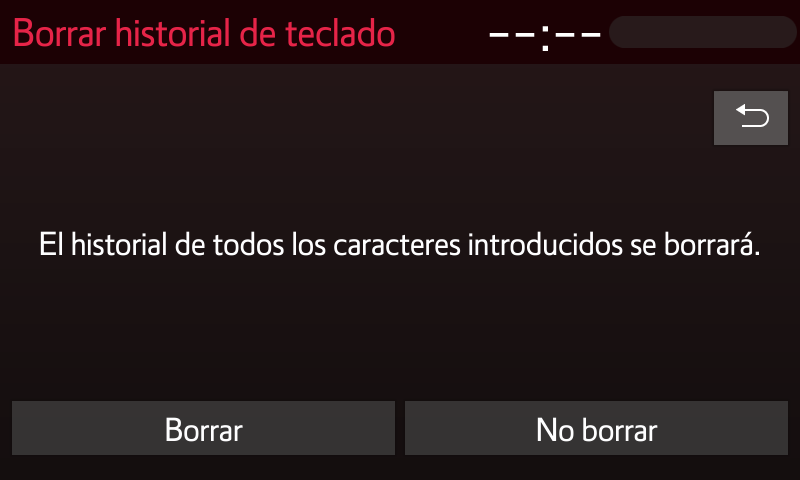touchPart: (404, 395, 792, 463), (9, 396, 399, 460), (716, 83, 797, 154)
untouchPart: (32, 212, 770, 267), (14, 17, 401, 48), (471, 16, 798, 50)
